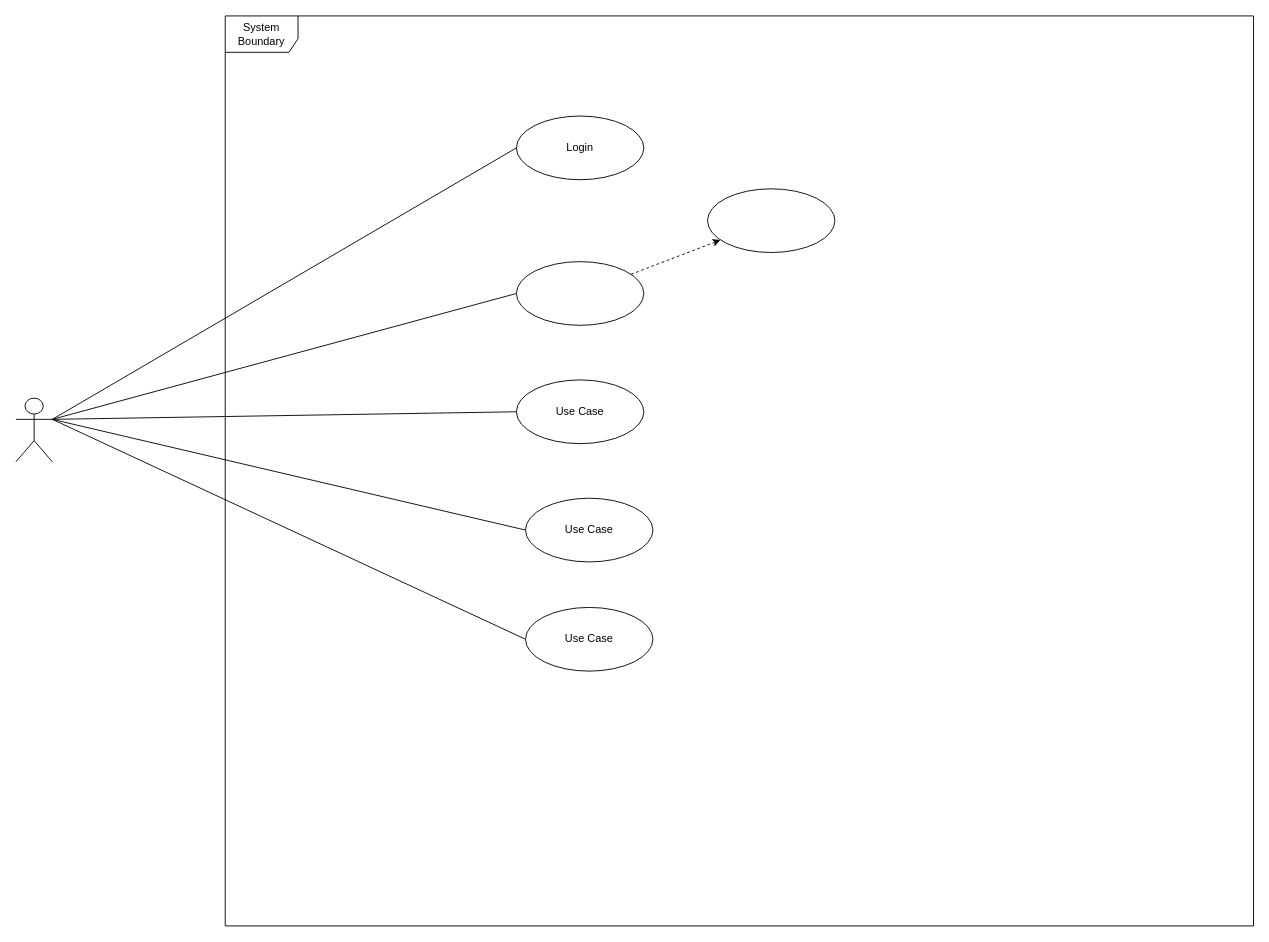
The diagram is 1269 pixels wide and 942 high, and some of its shapes have lost their labels. The shapes that lost their labels are listed below. From the top down, each one's centre as x and y in pixels, then its label:
point (771, 220): Create or choose a project from the project list
point (580, 293): Review project progress
point (33, 429): Client
